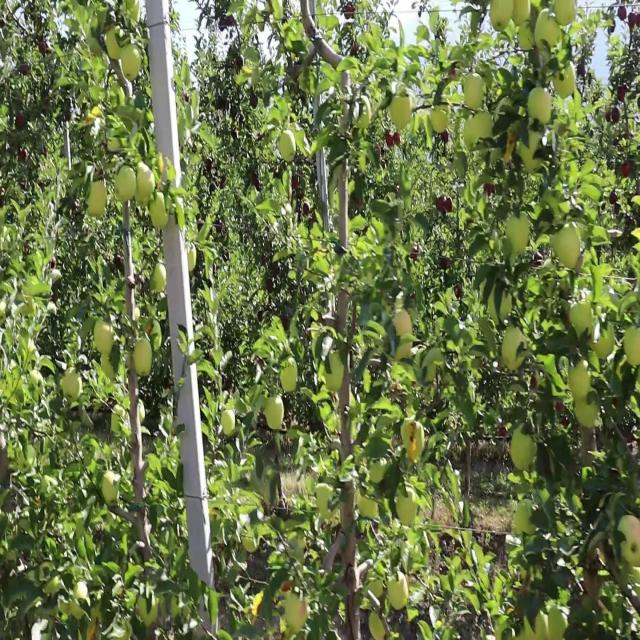apple: (551, 224, 580, 269), (400, 418, 425, 462), (501, 327, 525, 371), (534, 9, 560, 47), (518, 131, 541, 173), (285, 591, 308, 633), (506, 213, 529, 253), (528, 87, 551, 124), (135, 162, 155, 204), (592, 322, 615, 358), (115, 164, 136, 202), (569, 360, 590, 398), (388, 571, 409, 609), (340, 480, 355, 533), (554, 62, 576, 98), (136, 593, 159, 627), (389, 96, 412, 129), (490, 0, 514, 31), (150, 191, 169, 229), (89, 180, 108, 218), (121, 44, 141, 80), (575, 398, 599, 428), (464, 73, 484, 109), (335, 289, 350, 337), (264, 396, 284, 431), (61, 367, 82, 400), (134, 338, 152, 376), (94, 320, 114, 353), (624, 327, 640, 367), (280, 358, 298, 393), (102, 471, 119, 504), (430, 104, 449, 133), (555, 0, 576, 26), (472, 111, 492, 138), (105, 27, 121, 60), (552, 42, 571, 69), (158, 153, 175, 182), (504, 127, 518, 162), (394, 309, 412, 336), (615, 349, 630, 381), (150, 262, 166, 291), (518, 22, 534, 51), (0, 444, 11, 486), (464, 116, 478, 149), (358, 96, 371, 129), (100, 353, 115, 380), (221, 409, 235, 436), (251, 591, 264, 616), (86, 104, 101, 122), (86, 620, 98, 639), (344, 0, 355, 20), (616, 84, 628, 102), (628, 11, 640, 29), (126, 353, 136, 373), (38, 40, 50, 56), (350, 302, 356, 334), (158, 153, 165, 178), (15, 111, 25, 128), (436, 196, 446, 213), (610, 107, 620, 124), (280, 313, 289, 331), (621, 162, 631, 178), (618, 4, 628, 20), (280, 580, 292, 593), (18, 147, 29, 161), (19, 62, 30, 76), (385, 131, 394, 147), (145, 320, 154, 336), (454, 282, 462, 299), (281, 580, 291, 593), (445, 196, 452, 213), (391, 131, 400, 144), (441, 129, 449, 142), (302, 202, 310, 214)
